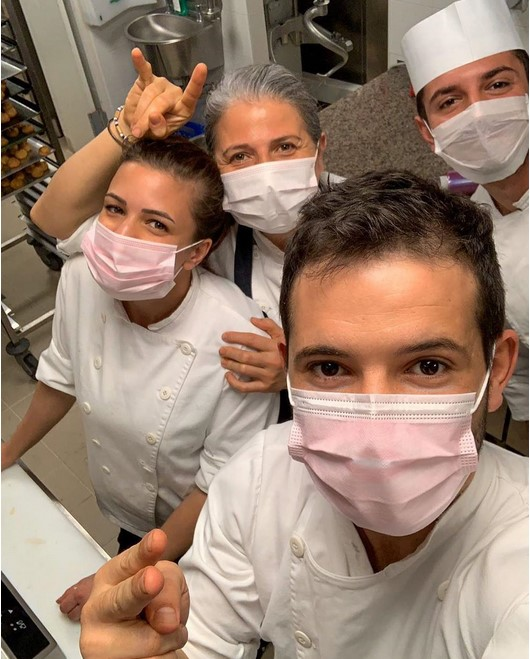face_with_mask: (278, 178, 521, 540), (405, 0, 527, 188), (79, 147, 213, 307), (208, 79, 331, 244)
